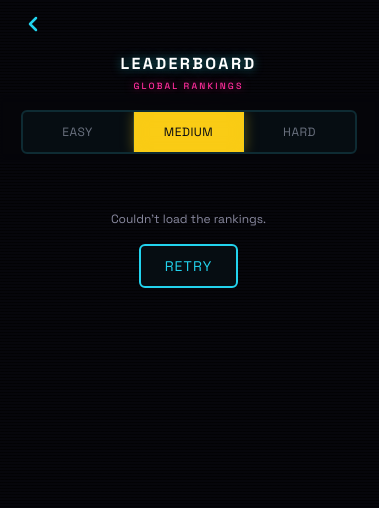
LeaderboardScreen › a failed fetch shows an error state whose Retry refetches
Expected: the text "Couldn’t load the rankings." is shown, [111,210,266,228]
Click the button "Retry" at (188, 266), box [139,244,238,288]
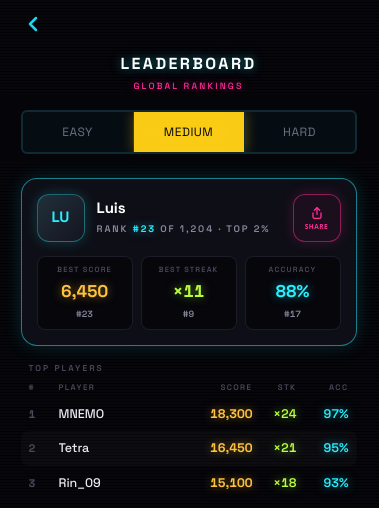
Now the text "MNEMO" is shown, box [58,406,104,422]
